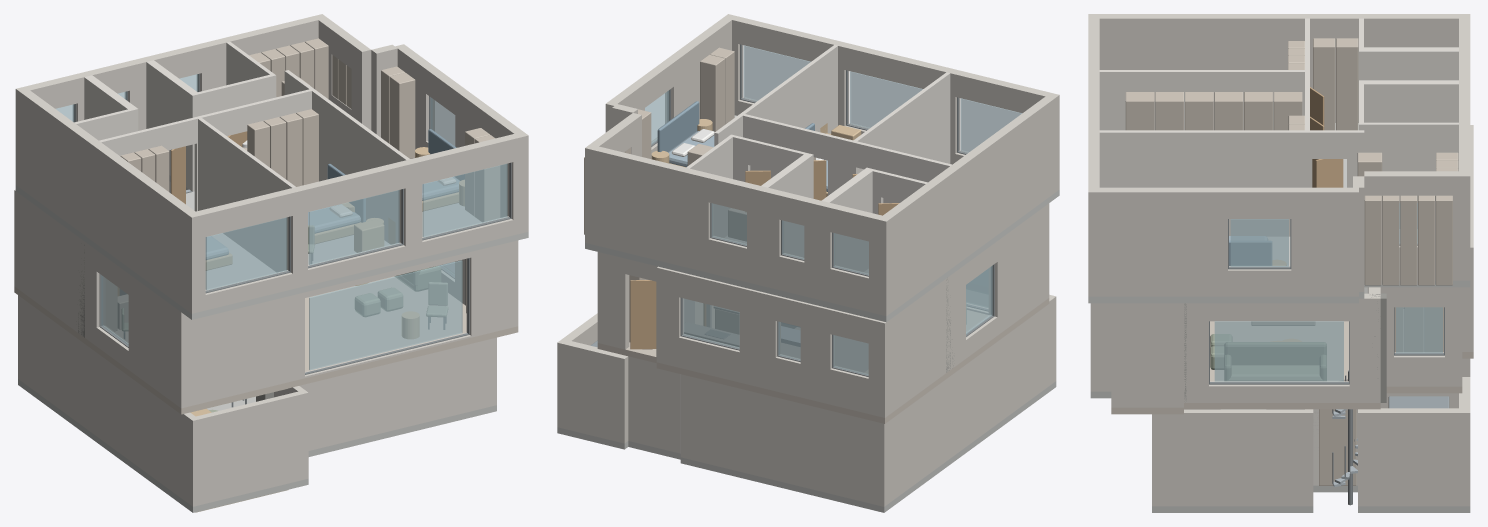
Rendered from whole-house.glb.
3 renders of one model, left to right at view 1: azimuth 30°, elevation 25°; view 2: azimuth 150°, elevation 25°; view 3: azimuth 270°, elevation 25°, orthographic. The views are drawn at different scales.
Visible parts, largest first — view 1: F2_ExtWall_07_P00, B1_ExtWall_13_P00, B1_ExtWall_02_P00, F1_Slab, F1_ExtWall_00_sliding_01_Glass, F1_ExtWall_00_P00, B1_ExtWall_00_P00, F1_ExtWall_09_P00, F2_Slab, F2_Bed2_Guest_P00, F1_ExtWall_09_P01, F2_Guest_Master_P00 (+59 smaller); view 2: F2_ExtWall_07_P00, B1_ExtWall_12_P00, B1_ExtWall_13_P00, F2_ExtWall_06_P00, F1_ExtWall_09_P00, B1_ExtWall_08_P00, F2_Bed2_Guest_P00, F1_ExtWall_09_P01, F2_Guest_Master_P00, B1_ExtWall_10_P00, F1_ExtWall_08_P01, F1_Slab (+71 smaller); view 3: F2_ExtWall_07_P00, F2_ExtWall_01_P00, B1_ExtWall_03_P00, F2_Guest_Master_P00, B1_ExtWall_07_P00, F1_ExtWall_03_window_01_Glass, F2_ExtWall_01_P01, F1_Slab, F2_Bed2_Guest_P00, F1_ExtWall_01_P00, F2_Stair_GuestBath_P00, F2_GuestBath_Closet_P00 (+66 smaller).
Boxes of the visible parts, <box> form: F2_ExtWall_07_P00: <box>16,87,200,313</box>; B1_ExtWall_13_P00: <box>18,295,199,506</box>; B1_ExtWall_02_P00: <box>299,337,496,450</box>; F1_Slab: <box>14,276,518,414</box>; F1_ExtWall_00_sliding_01_Glass: <box>309,260,462,370</box>; F1_ExtWall_00_P00: <box>176,292,304,408</box>; B1_ExtWall_00_P00: <box>189,390,308,506</box>; F1_ExtWall_09_P00: <box>14,190,105,345</box>; F2_Slab: <box>15,175,528,319</box>; F2_Bed2_Guest_P00: <box>196,116,295,271</box>; F1_ExtWall_09_P01: <box>128,274,190,407</box>; F2_Guest_Master_P00: <box>310,89,409,244</box>; F2_ExtWall_07_P00: <box>877,95,1059,315</box>; B1_ExtWall_12_P00: <box>687,376,887,506</box>; B1_ExtWall_13_P00: <box>878,295,1056,506</box>; F2_ExtWall_06_P00: <box>585,145,713,272</box>; F1_ExtWall_09_P00: <box>876,264,965,417</box>; B1_ExtWall_08_P00: <box>557,340,627,442</box>; F2_Bed2_Guest_P00: <box>851,72,950,178</box>; F1_ExtWall_09_P01: <box>989,207,1049,334</box>; F2_Guest_Master_P00: <box>739,45,837,133</box>; B1_ExtWall_10_P00: <box>628,357,679,453</box>; F1_ExtWall_08_P01: <box>739,287,780,391</box>; F1_Slab: <box>597,298,1049,423</box>; F2_ExtWall_07_P00: <box>1088,14,1469,122</box>; F2_ExtWall_01_P00: <box>1088,187,1227,296</box>; B1_ExtWall_03_P00: <box>1154,409,1313,506</box>; F2_Guest_Master_P00: <box>1099,130,1309,236</box>; B1_ExtWall_07_P00: <box>1366,409,1470,506</box>; F1_ExtWall_03_window_01_Glass: <box>1214,321,1343,381</box>; F2_ExtWall_01_P01: <box>1291,187,1358,296</box>; F1_Slab: <box>1111,321,1473,414</box>; F2_Bed2_Guest_P00: <box>1099,70,1309,130</box>; F1_ExtWall_01_P00: <box>1111,303,1181,407</box>; F2_Stair_GuestBath_P00: <box>1359,80,1458,122</box>; F2_GuestBath_Closet_P00: <box>1359,122,1458,228</box>.
Size of the model in its own units: 10.34 by 8.97 by 9.44.
